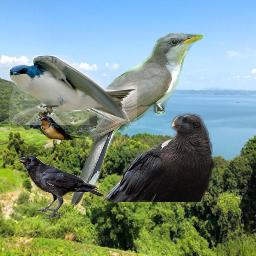Crow: (100, 112, 216, 202), (18, 155, 104, 218)
Cuckoo: (70, 33, 203, 205)
Swallow: (9, 55, 137, 125), (38, 116, 87, 140)
